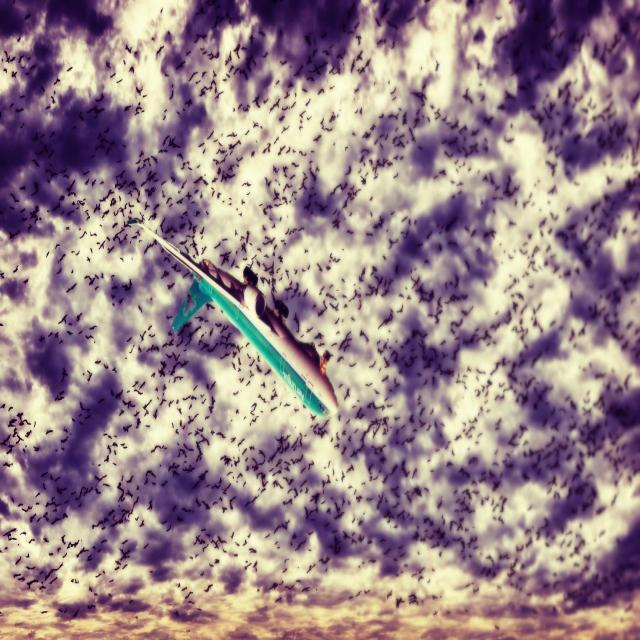airplane: (130, 218, 339, 421)
